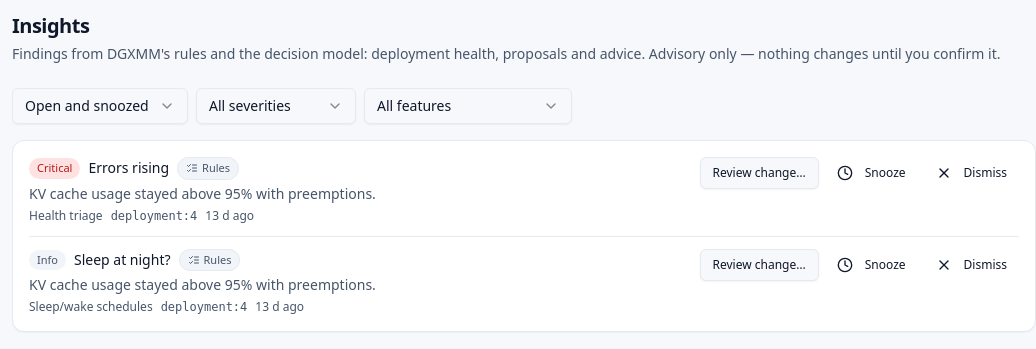
it: Insights page › lists live insights by default and filters by severity
Check: the text "Errors rising" is shown, box 88,158 -> 169,178
Check: the text "Sleep at night?" is shown, box 74,250 -> 170,270
Click the dropdown named "Filter by severity" at (276, 106), box 196,88 -> 356,124
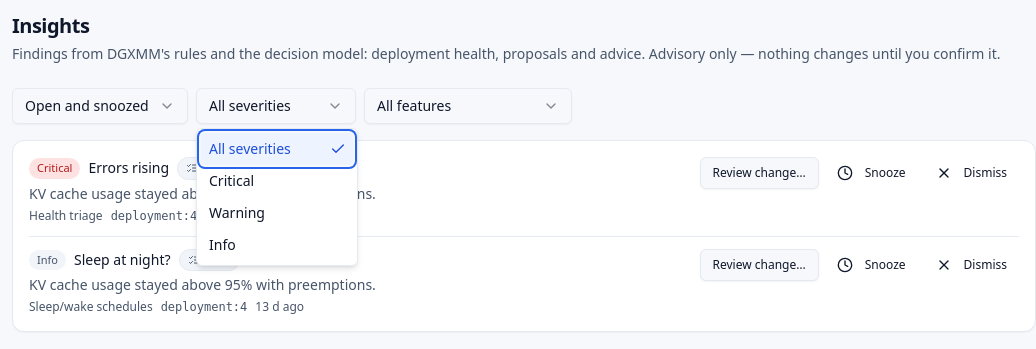
Click the option "Critical" at (232, 180), box 209,171 -> 254,190
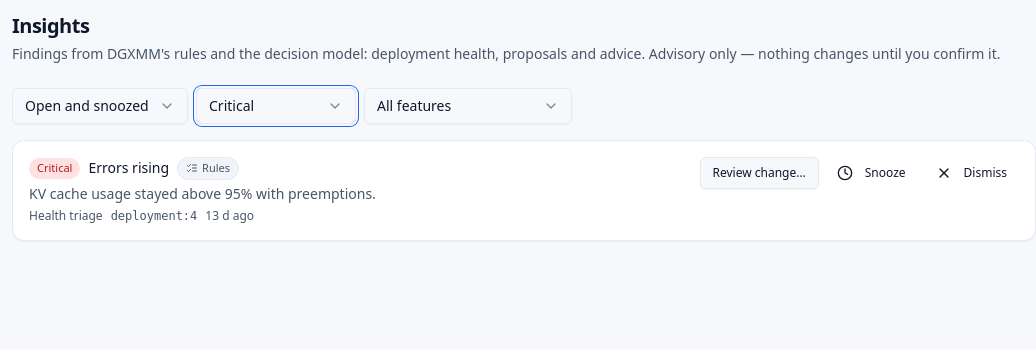
Check: the text "Errors rising" is shown, box 88,158 -> 169,178
Check: the text "Sleep at night?" is gone
